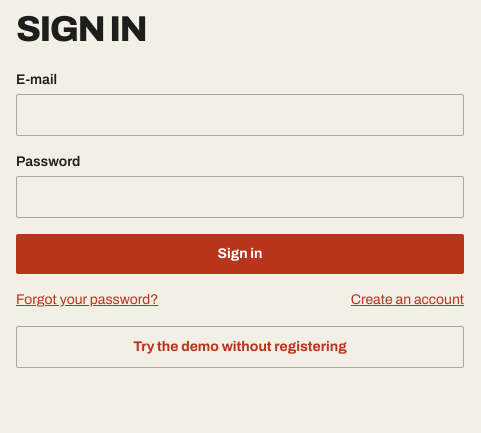
Scenario: login › keeps the button active and names the missing fields instead
Step 1. Click the button "Sign in" → [240, 254], box [16, 234, 464, 274]
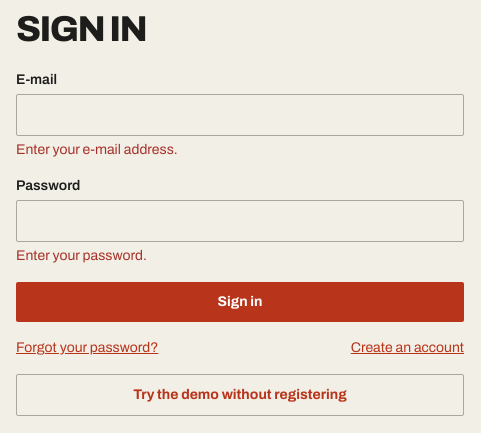
expect the text "Enter your e-mail address." is shown: met, box [16, 142, 178, 157]
expect the text "Enter your password." is shown: met, box [16, 248, 147, 263]
